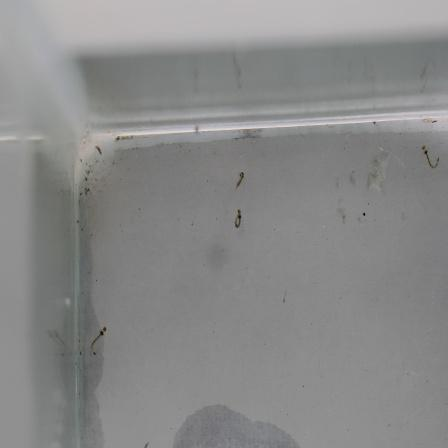Jentik-Nyamuk: (416, 143, 447, 172), (88, 319, 109, 355), (228, 203, 253, 233), (229, 168, 249, 194)
